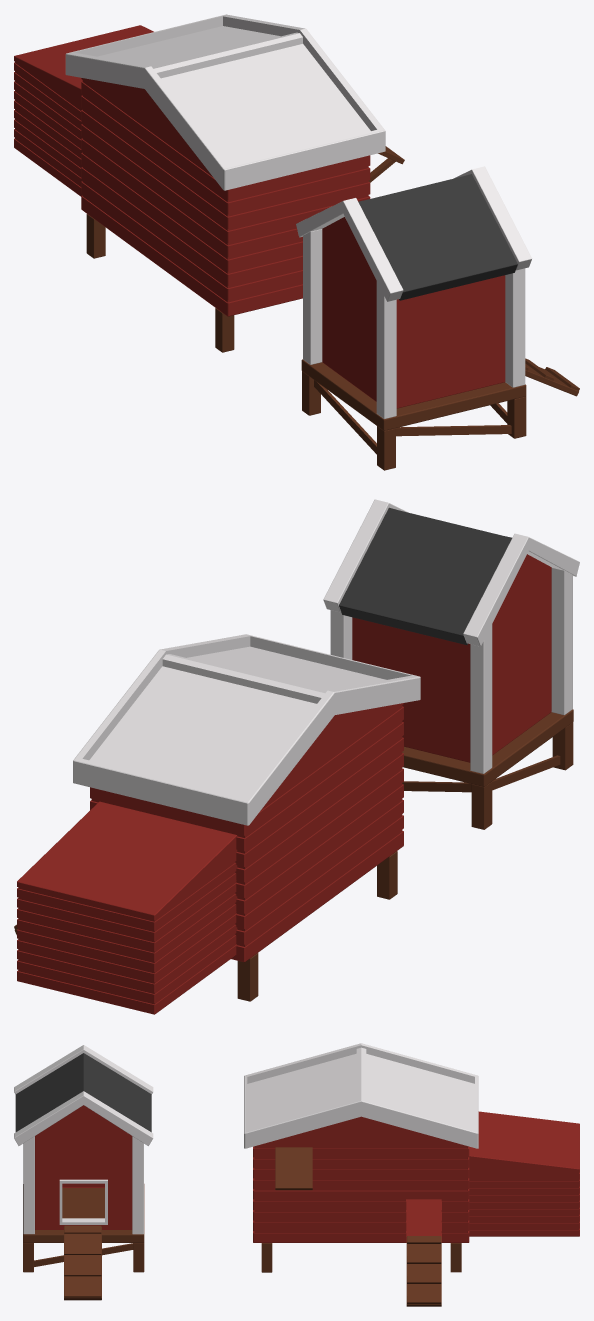
Rendered from Coops.fbx.
3 renders of one model, top to bottom at view 1: azimuth 30°, elevation 25°; view 2: azimuth 150°, elevation 25°; view 3: azimuth 270°, elevation 25°, orthographic. The views are drawn at different scales.
Parts seen in each view (by area): view 1: Coop2, Coop1; view 2: Coop2, Coop1; view 3: Coop2, Coop1.
Boxes of the visible parts, box(x1,y1,x2,y2) form: Coop2: box(14, 14, 404, 352); Coop1: box(296, 166, 579, 470); Coop2: box(14, 634, 420, 1014); Coop1: box(323, 499, 579, 829); Coop2: box(244, 1043, 579, 1306); Coop1: box(14, 1045, 153, 1300).
Bounding box in the file's own units: 932 × 327 × 337.
